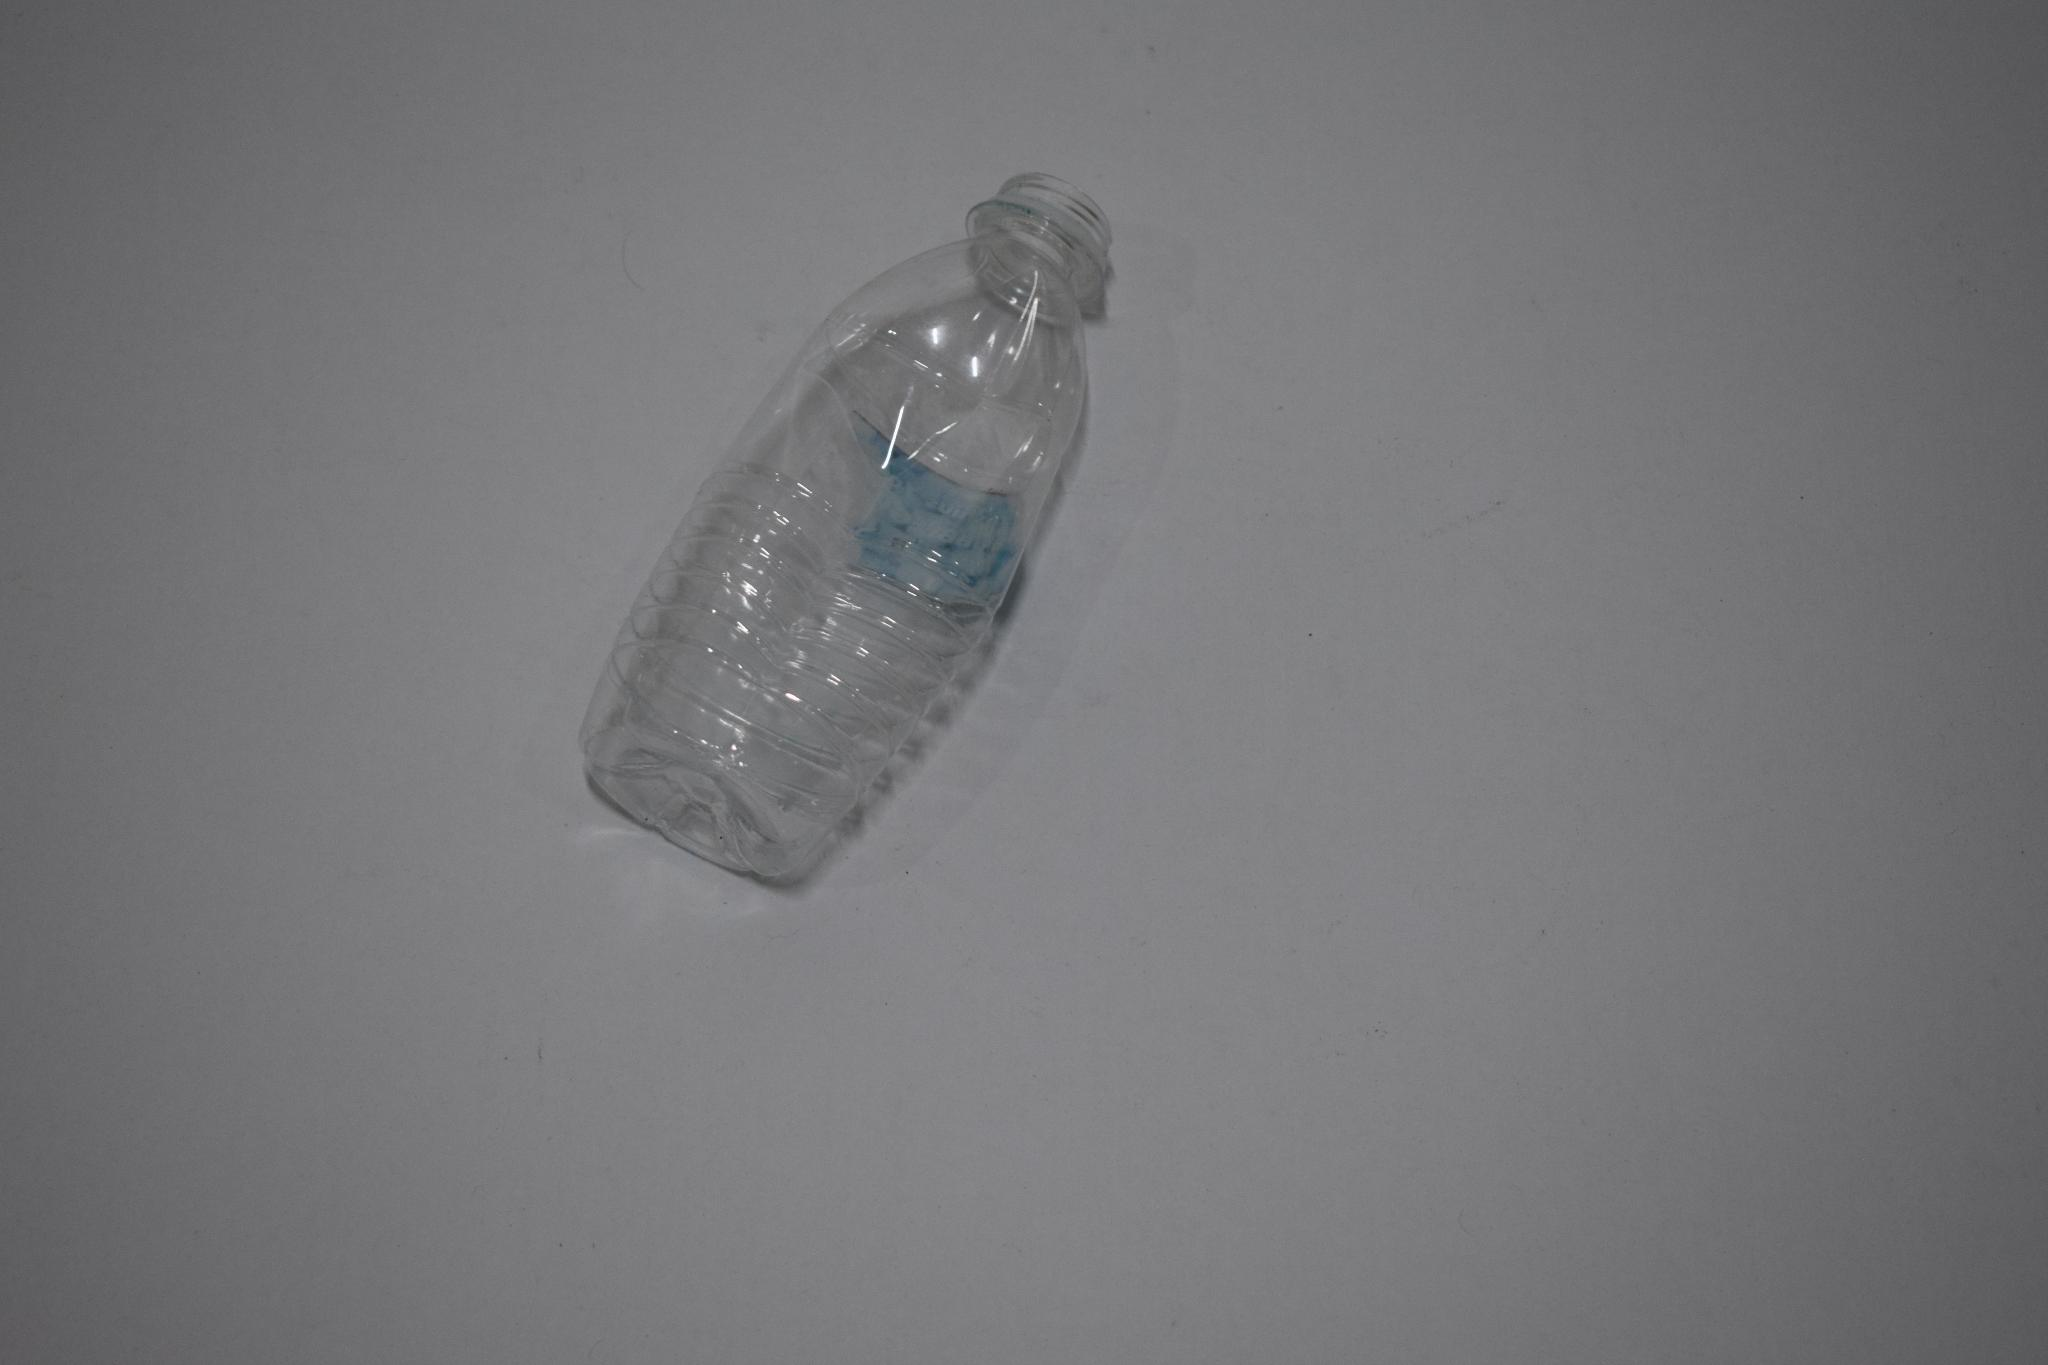bottle: (566, 134, 1122, 917)
